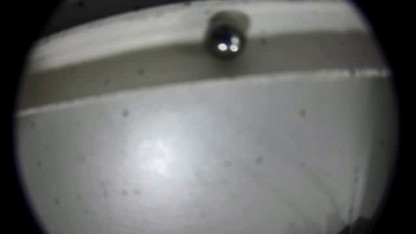gangzhu: (209, 25, 247, 59)
